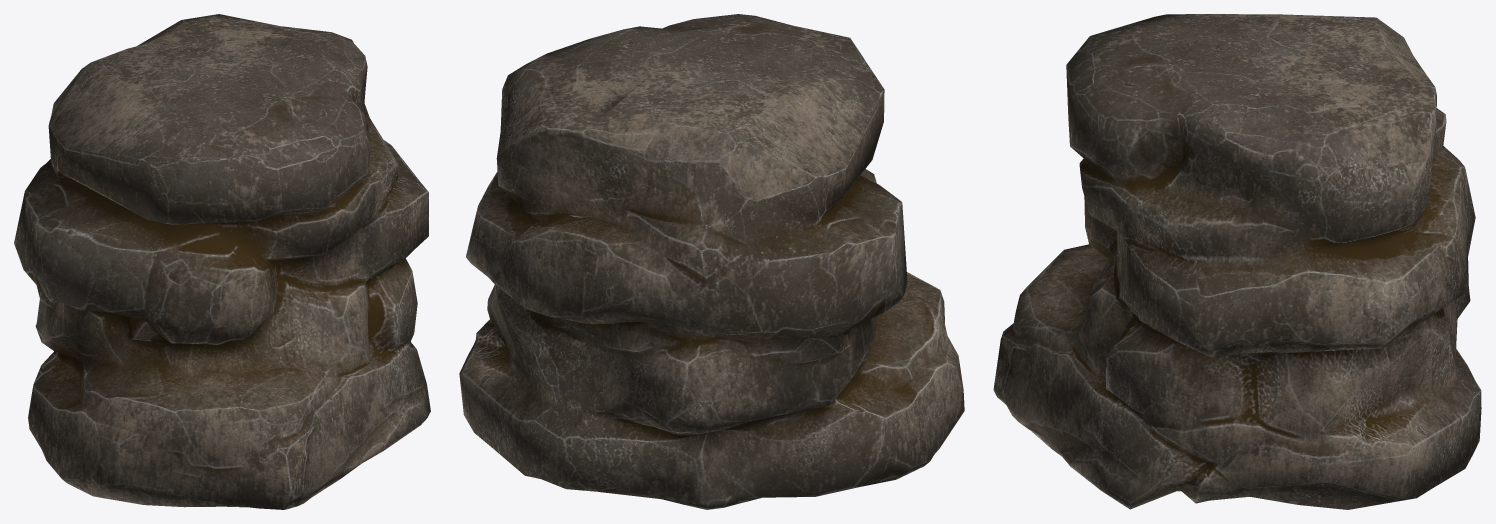
3 renders of one model, left to right at view 1: azimuth 30°, elevation 25°; view 2: azimuth 150°, elevation 25°; view 3: azimuth 270°, elevation 25°, orthographic. The views are drawn at different scales.
Parts seen in each view (by area): view 1: RetopoGroup002; view 2: RetopoGroup002; view 3: RetopoGroup002.
Boxes of the visible parts, left/top/right/bottom form: RetopoGroup002: left=14, top=14, right=430, bottom=509; RetopoGroup002: left=459, top=14, right=964, bottom=509; RetopoGroup002: left=993, top=14, right=1481, bottom=509.
Size of the model in its own units: 1.96 by 1.81 by 2.
Materials: 1 (1 with a texture image).
